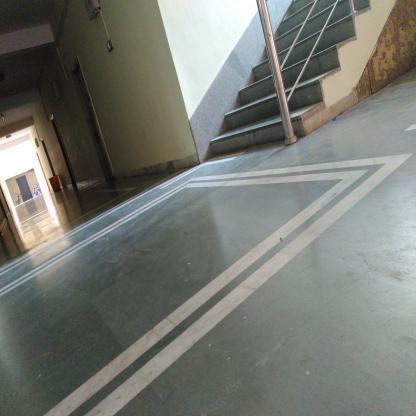stairs: (239, 88, 274, 153)
